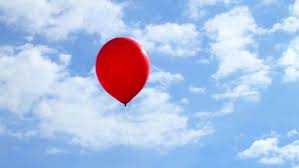Balloon: (96, 37, 151, 103)
